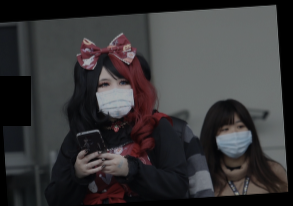with_mask: (95, 74, 136, 119), (213, 118, 253, 160)
